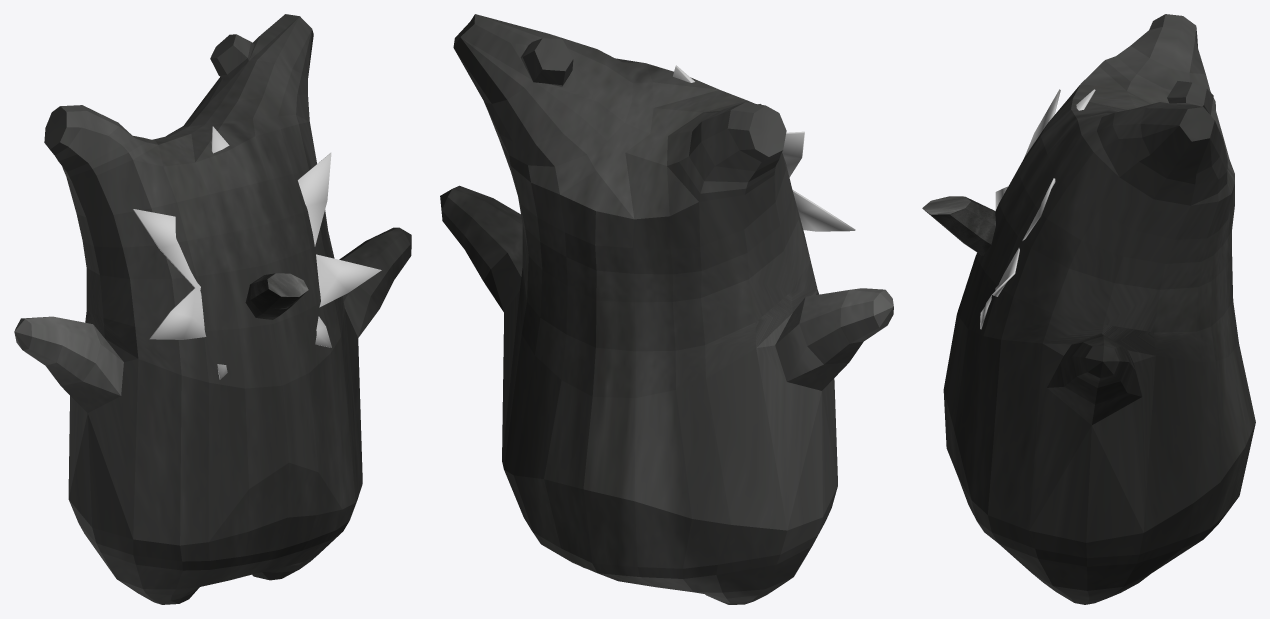
Rendered from frame_0028.obj.
3 renders of one model, left to right at view 1: azimuth 30°, elevation 25°; view 2: azimuth 150°, elevation 25°; view 3: azimuth 270°, elevation 25°, orthographic. The views are drawn at different scales.
Visible parts, largest first — view 1: korok, leaf, nose; view 2: korok, leaf; view 3: korok, nose, leaf.
Part boxes in pixels (x1,y1,x2,y2): korok: (14, 14, 411, 604); leaf: (133, 126, 381, 379); nose: (245, 273, 308, 319); korok: (440, 14, 893, 604); leaf: (673, 65, 855, 231); korok: (943, 14, 1255, 604); nose: (922, 196, 995, 255); leaf: (980, 89, 1095, 329).
Bounding box in the file's own units: 1.79 × 2.18 × 1.24.
